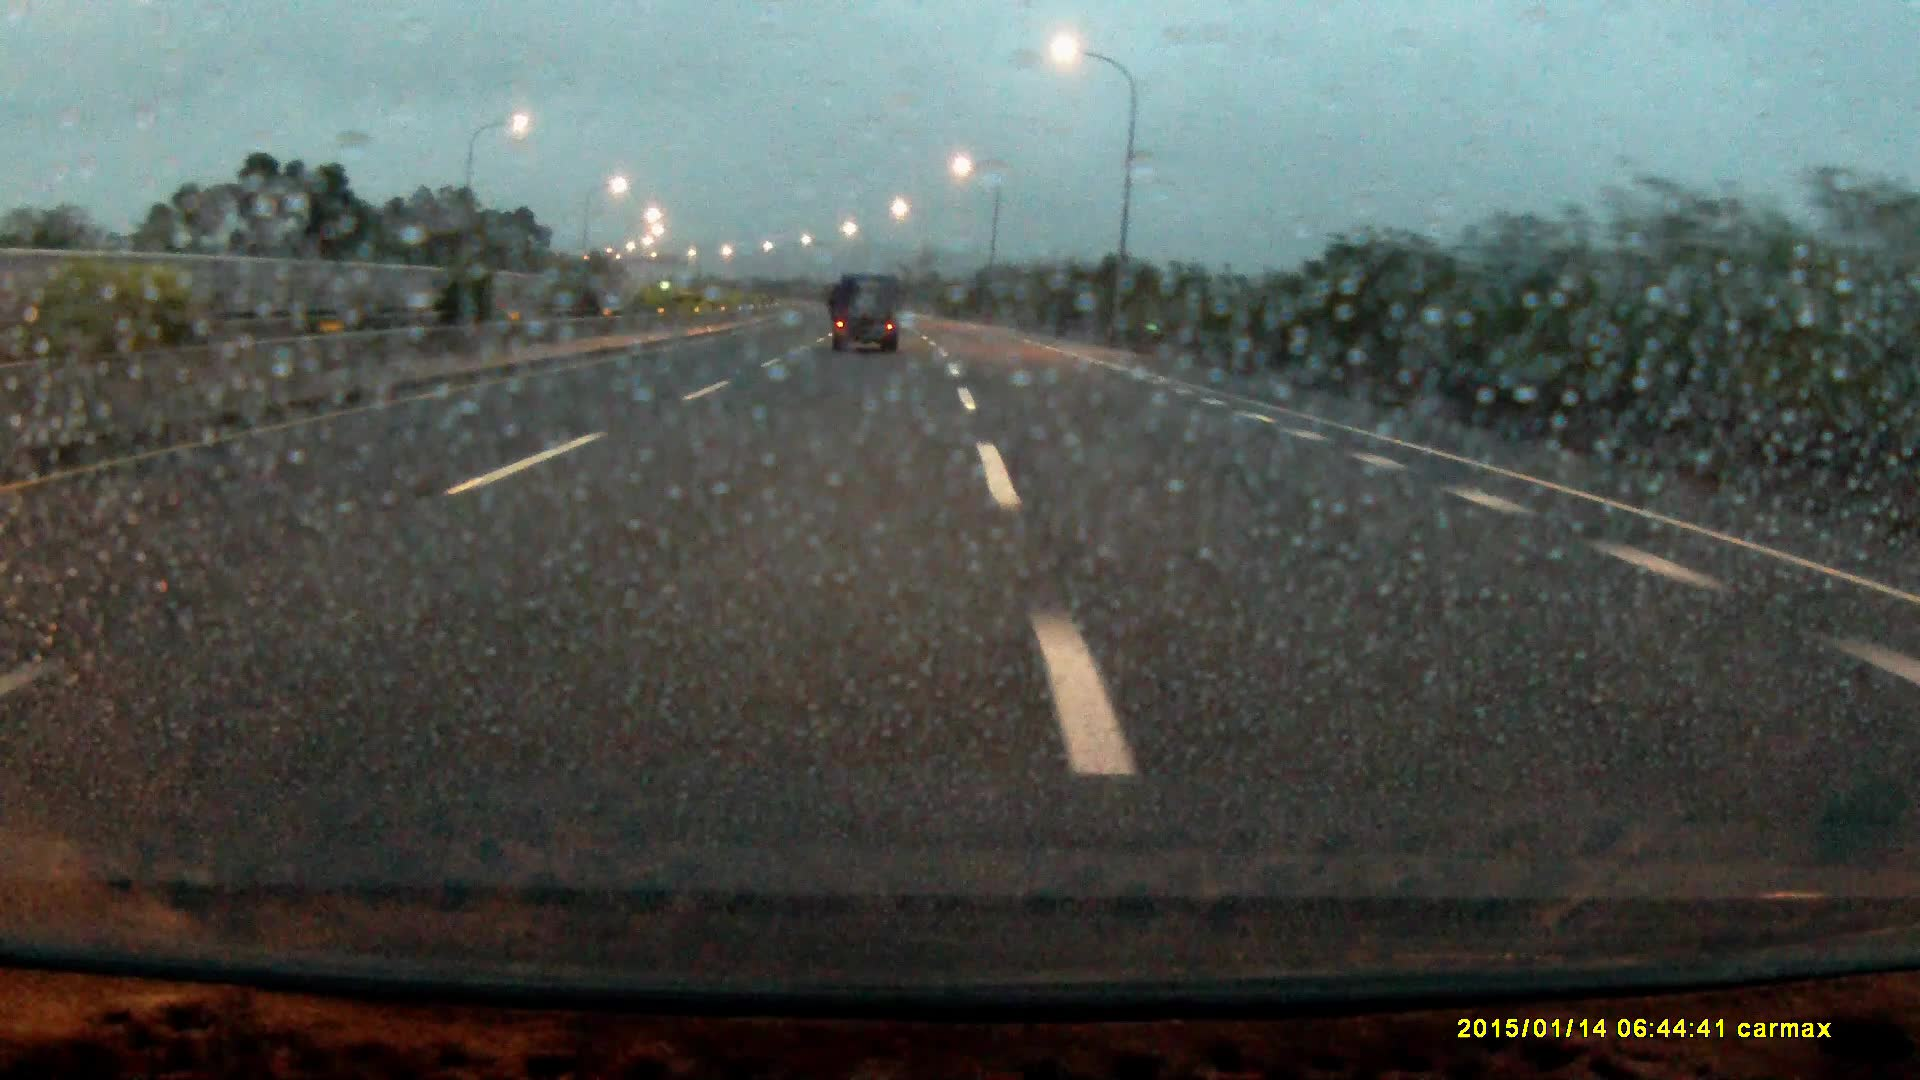vehicle: (829, 268, 903, 355)
